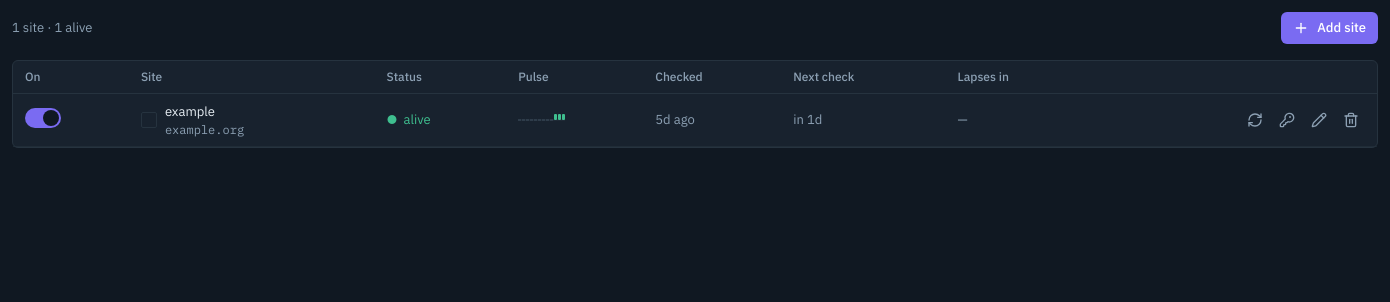
Test: Sites › shows a site's notes when there are any
The width and height of the screenshot is (1390, 302).
Check: the text "example" is shown, box [165,103,215,120]
Click the button with aria-label "Show details for example".
click(192, 120)  # box [141,102,244,138]
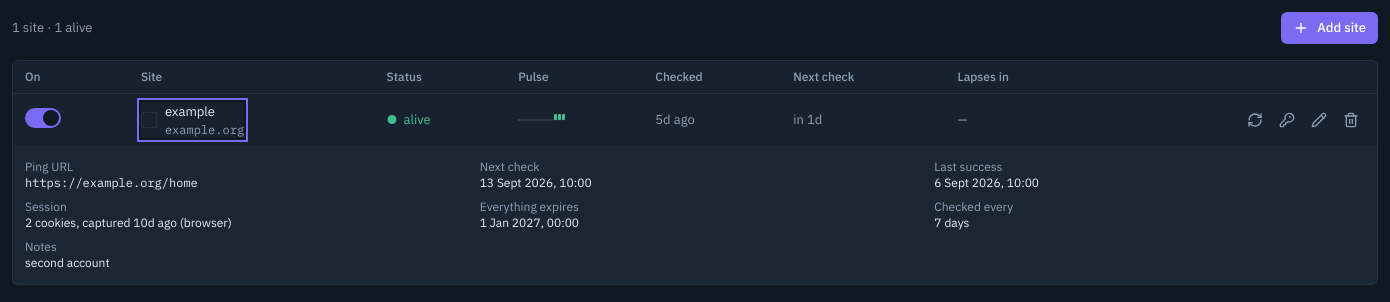
Check: the text "second account" is shown, box [25,255,110,270]
